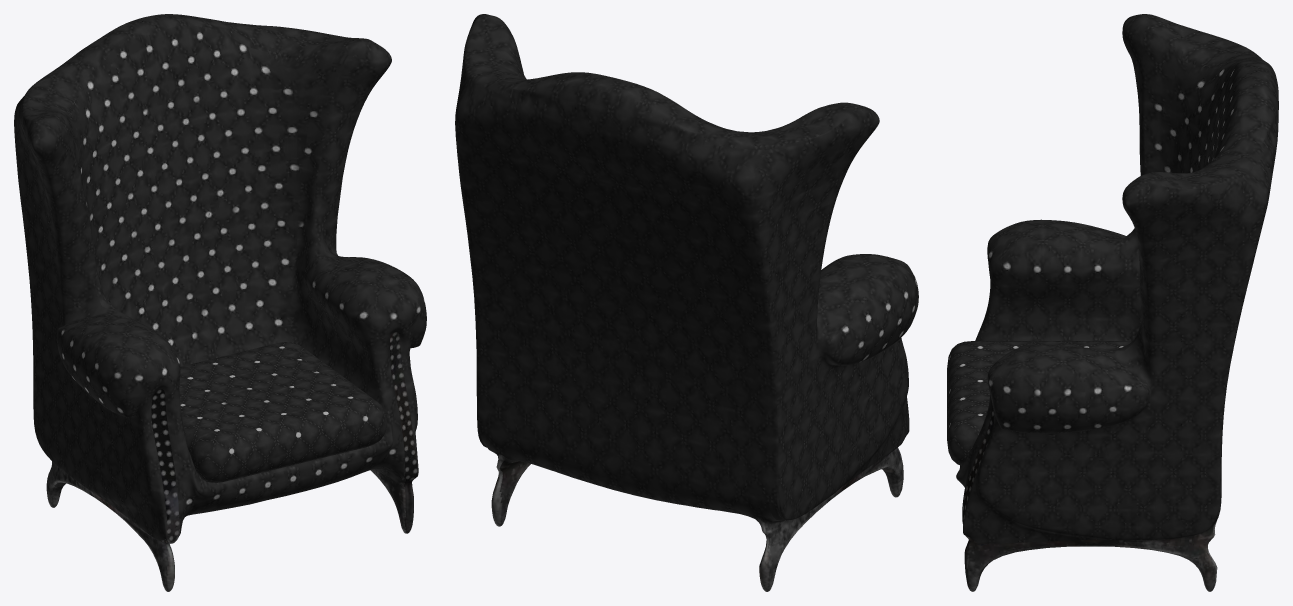
The model's file is gothic_chair.glb.
3 views of the same model, side by side, from view 1: azimuth 30°, elevation 25°; view 2: azimuth 150°, elevation 25°; view 3: azimuth 270°, elevation 25° (orthographic). The views are drawn at different scales.
Parts seen in each view (by area): view 1: chair_chair_0, cushion_cushion_0, chair_wood_0; view 2: chair_chair_0, chair_wood_0; view 3: chair_chair_0, cushion_cushion_0, chair_wood_0.
Part boxes in pixels (left/top/right/bottom): chair_chair_0: left=14, top=14, right=426, bottom=540; cushion_cushion_0: left=151, top=342, right=387, bottom=482; chair_wood_0: left=46, top=332, right=417, bottom=591; chair_chair_0: left=455, top=14, right=918, bottom=522; chair_wood_0: left=491, top=432, right=908, bottom=591; chair_chair_0: left=956, top=14, right=1278, bottom=543; cushion_cushion_0: left=947, top=341, right=1131, bottom=466; chair_wood_0: left=962, top=406, right=1217, bottom=591.
Bounding box in the file's own units: 1.32 × 1.56 × 1.02.
Materials: 3 (3 with a texture image).
